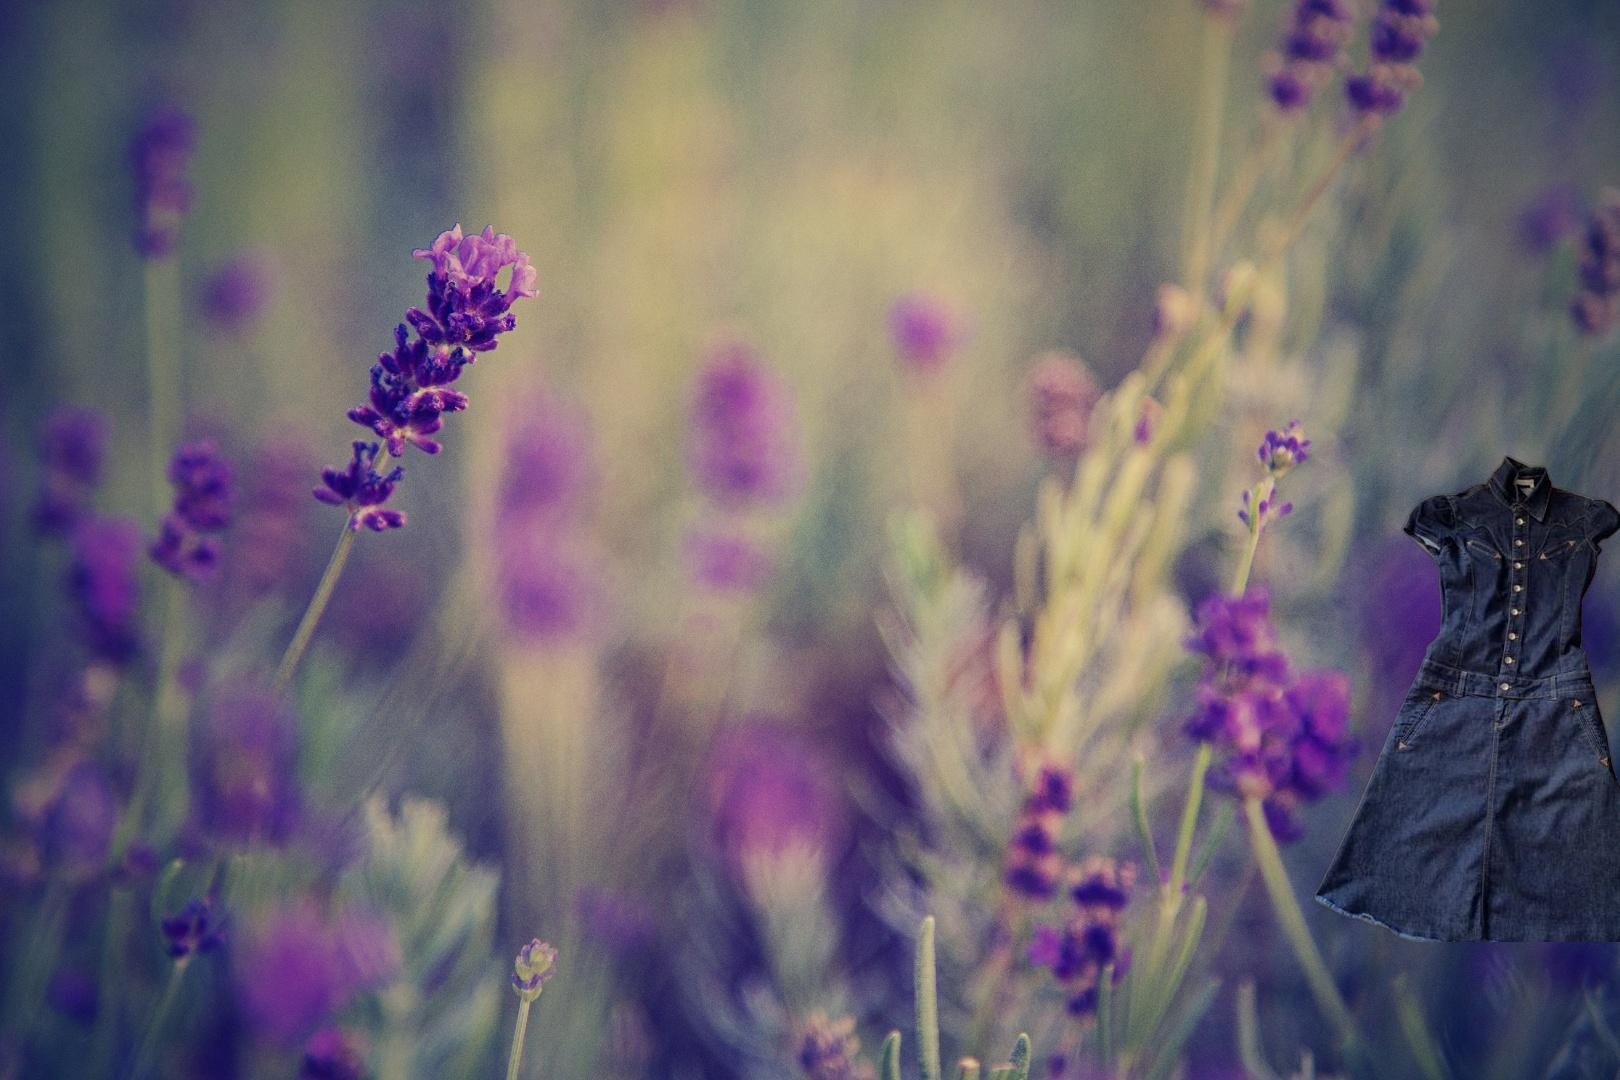clothes: (1315, 452, 1620, 943)
glass: (1395, 1028, 1620, 1080)
